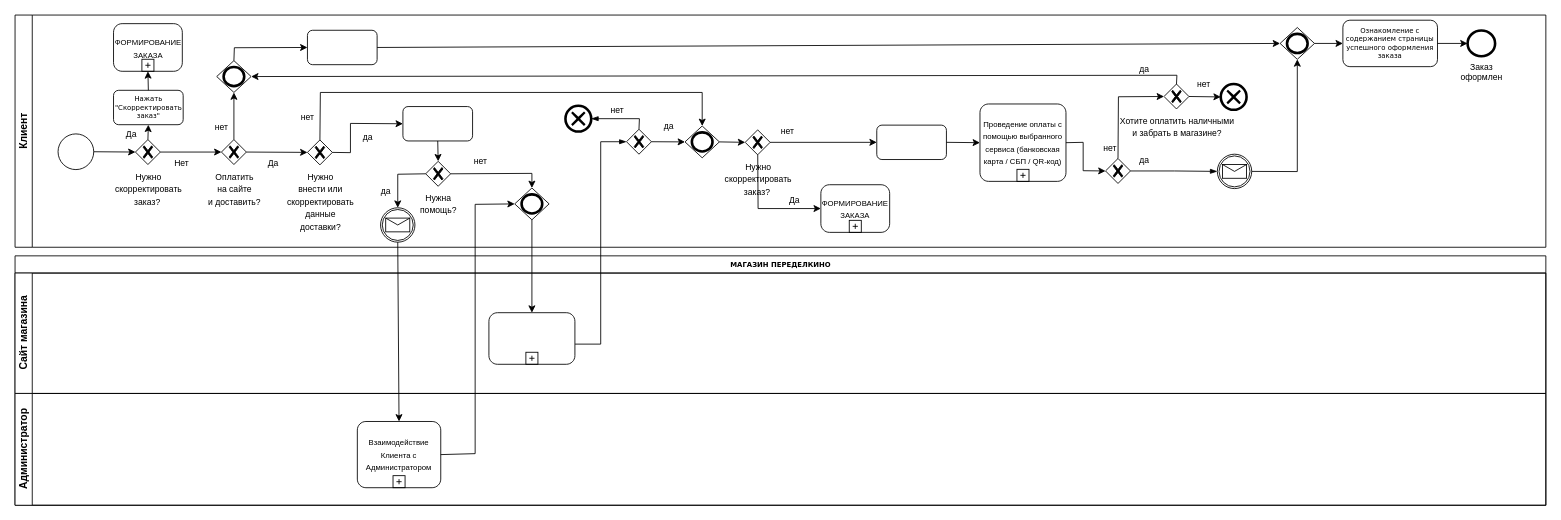
Image size: 1561x520. Some labels were removed from this diagram. Each missing label, with the box of its shape:
Взаимодействие с функционалом сайта: (488, 312, 575, 364)
Внесение актуальных данных адреса доставки: (402, 106, 473, 141)
Готов продолжать?: (626, 128, 651, 154)
Заказ сформирован: (57, 133, 94, 170)
Нажать "Забрать в магазине с оплатой на месте": (307, 29, 377, 65)
Нажать "Подтвердить и перейти к оплате": (876, 124, 946, 160)
Оплата проведена?: (1105, 158, 1130, 183)
Чек сообщением на номер телефона / e-mail: (1216, 153, 1252, 189)
